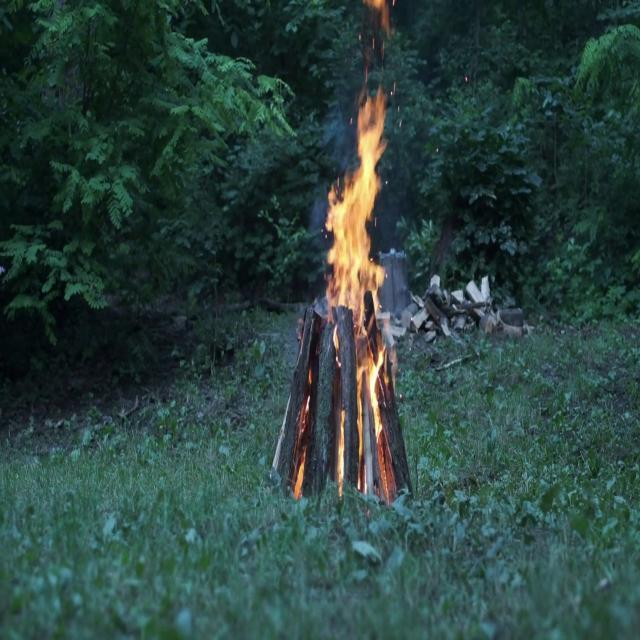Fire: (318, 70, 403, 474)
